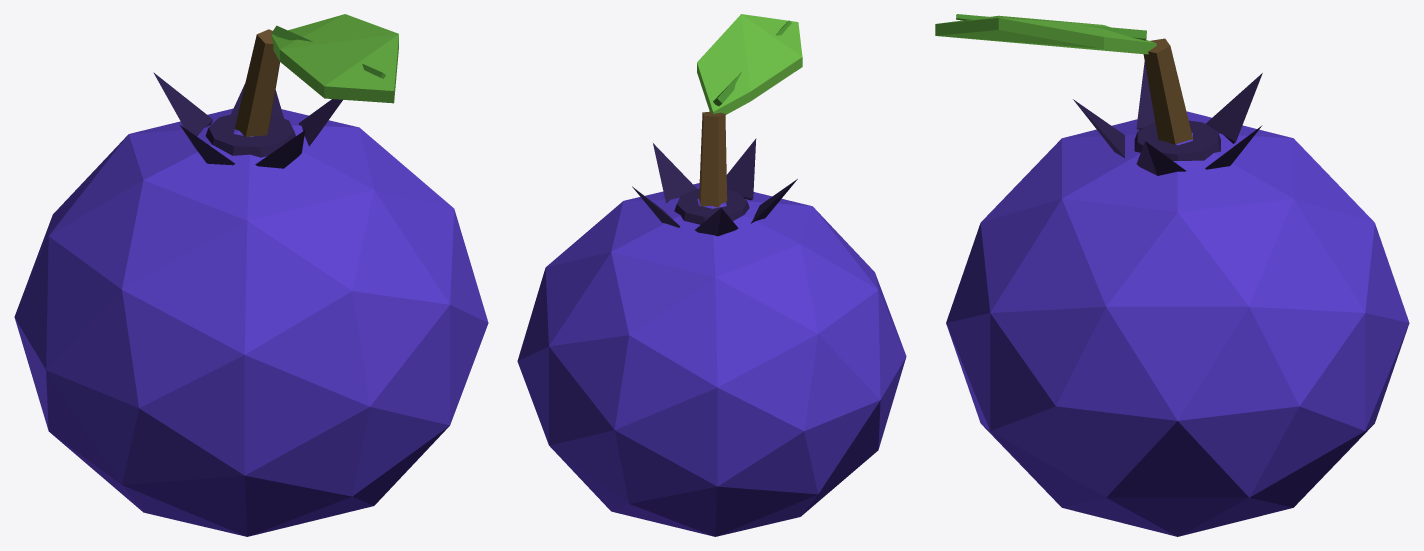
File: blueberry.glb
The picture shows the model from 3 angles, left to right: view 1: azimuth 30°, elevation 25°; view 2: azimuth 150°, elevation 25°; view 3: azimuth 270°, elevation 25°; orthographic projection. The views are drawn at different scales.
Visible parts, largest first — view 1: blueberry; view 2: blueberry; view 3: blueberry.
Part boxes in pixels (<box>): blueberry: <box>14,14,488,536</box>; blueberry: <box>517,14,906,536</box>; blueberry: <box>935,14,1409,536</box>.
Bounding box in the file's own units: 0.88 × 1.09 × 0.9.
1 material, 1 textured.
